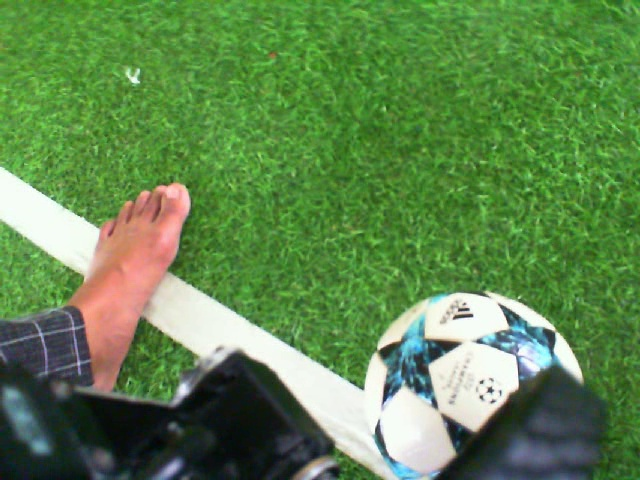ball: (361, 286, 586, 480)
